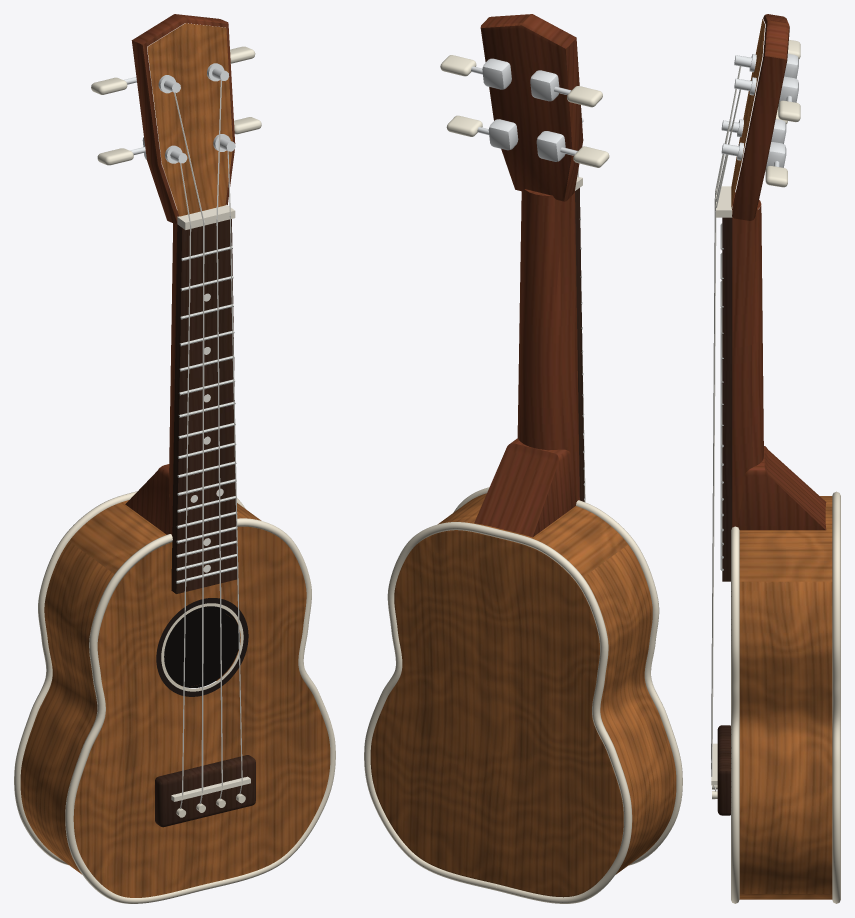
File: ukulele.glb
The picture shows the model from 3 angles, left to right: view 1: azimuth 30°, elevation 25°; view 2: azimuth 150°, elevation 25°; view 3: azimuth 270°, elevation 25°; orthographic projection.
Visible parts, largest first — view 1: Ukulele; view 2: Ukulele; view 3: Ukulele.
Part boxes in pixels (<box>): Ukulele: <box>14,14,335,903</box>; Ukulele: <box>364,14,682,903</box>; Ukulele: <box>711,14,840,903</box>.
Size of the model in its own units: 0.19 by 0.5854 by 0.08.
Materials: 12 (3 with a texture image).
